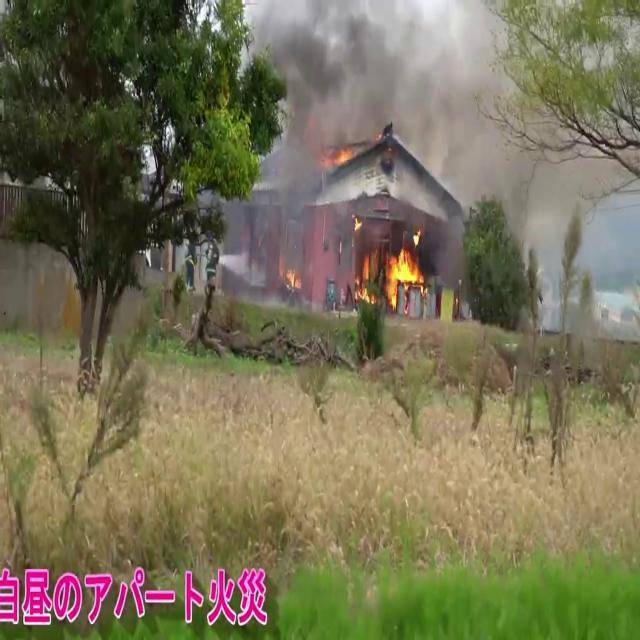Fire: (384, 230, 428, 306)
Smoke: (244, 0, 492, 201)
